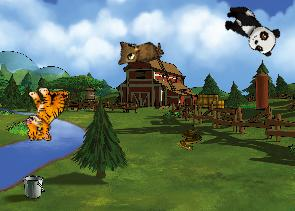owl: (112, 29, 165, 70)
panda: (217, 0, 284, 59)
tiger: (23, 85, 70, 141)
